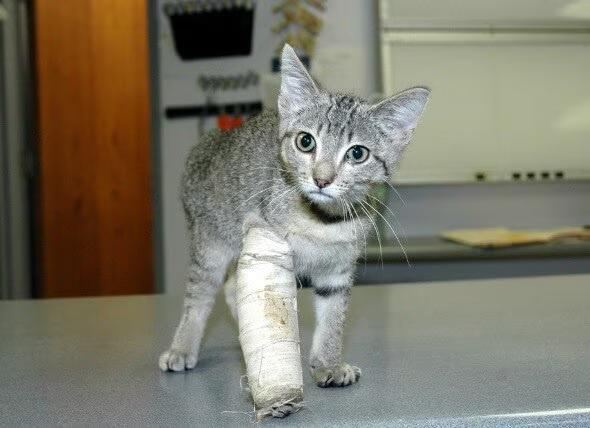fracture: (220, 209, 365, 416)
